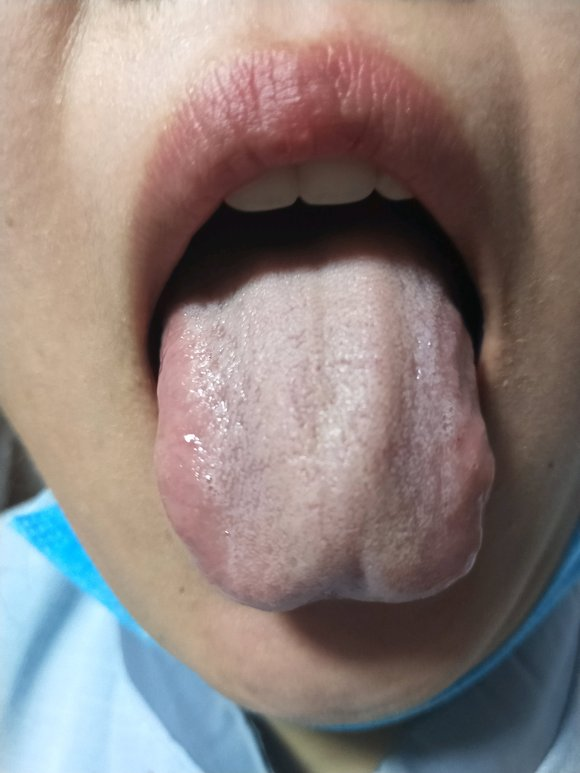baitaishe: (152, 217, 496, 612)
botaishe: (155, 301, 242, 591)
